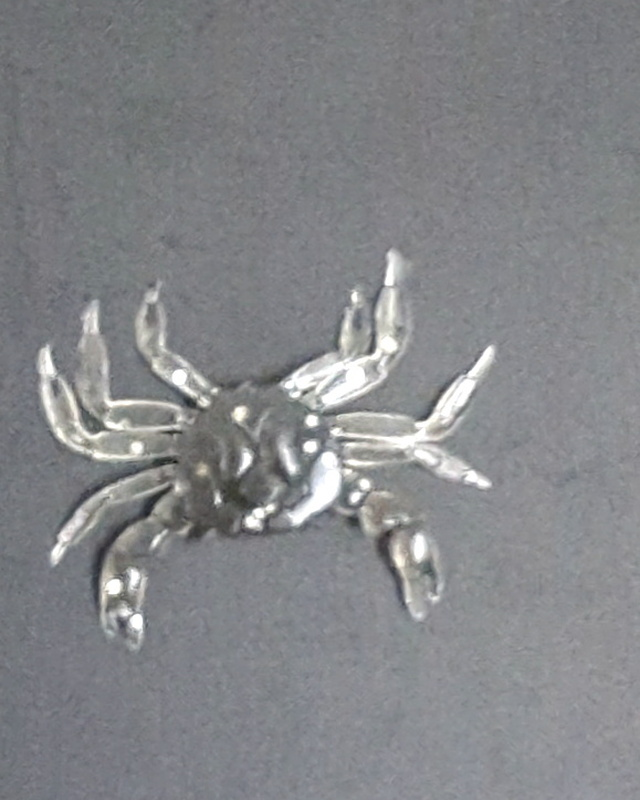crab1: (31, 246, 496, 653)
